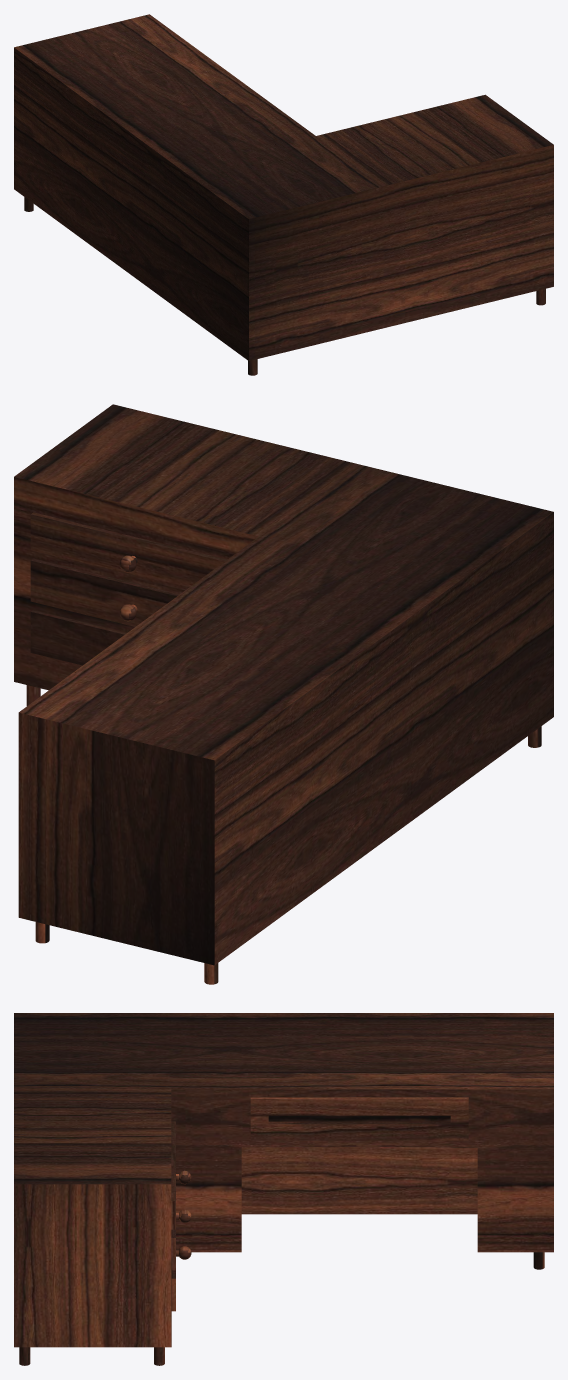
File: desk.obj
3 renders of one model, top to bottom at view 1: azimuth 30°, elevation 25°; view 2: azimuth 150°, elevation 25°; view 3: azimuth 270°, elevation 25°, orthographic. The views are drawn at different scales.
Parts seen in each view (by area): view 1: polySurface1; view 2: polySurface1; view 3: polySurface1.
Part boxes in pixels (x1,y1,x2,y2): polySurface1: (14,14,553,375); polySurface1: (14,404,553,984); polySurface1: (14,1013,553,1365).
Size of the model in its own units: 18 by 9.02 by 24.
1 material, 1 textured.
